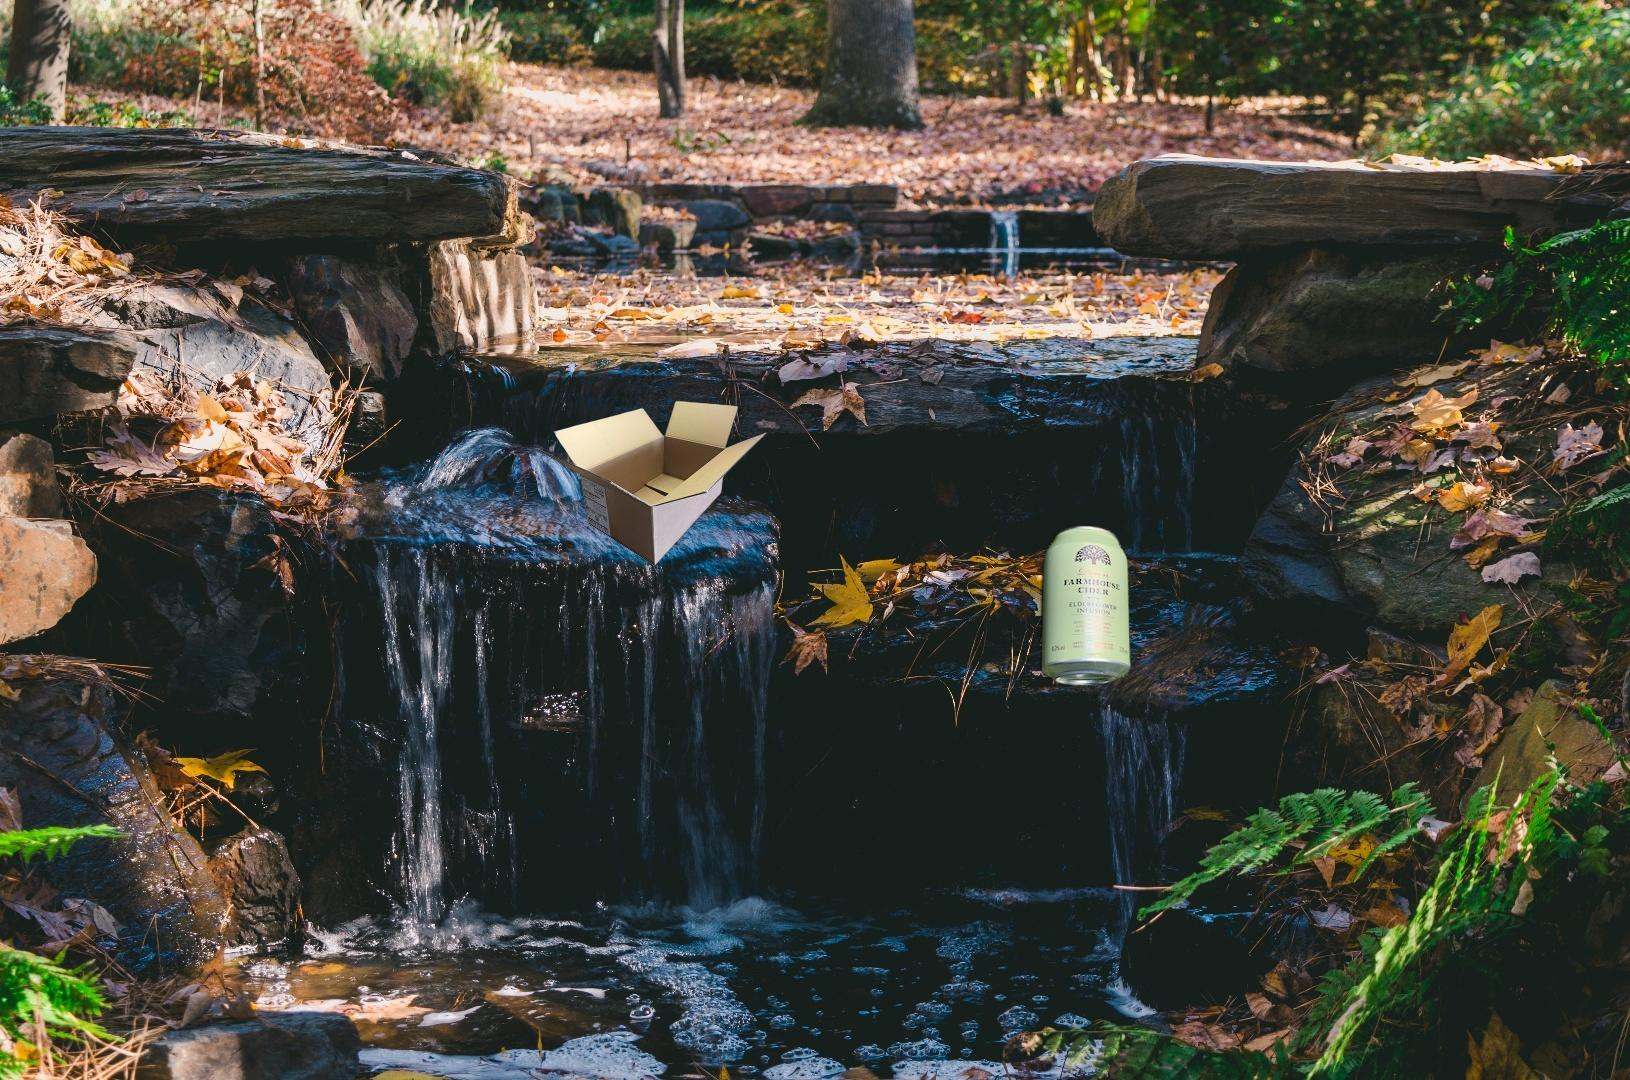metal-cans: (1036, 309, 1432, 991)
trashbox-cardboard: (532, 398, 767, 569)
